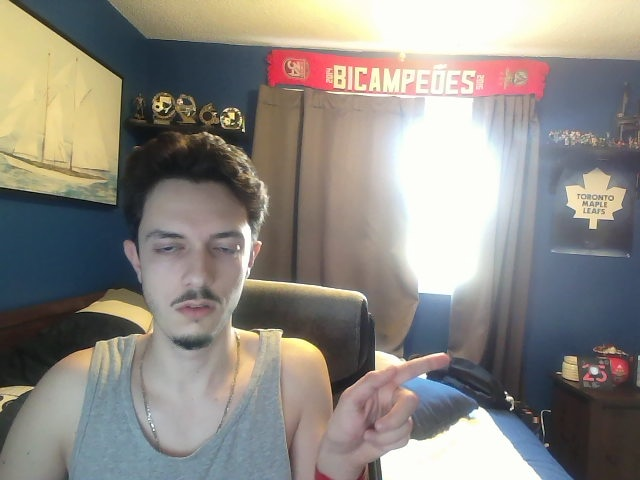Left: (316, 352, 452, 466)
